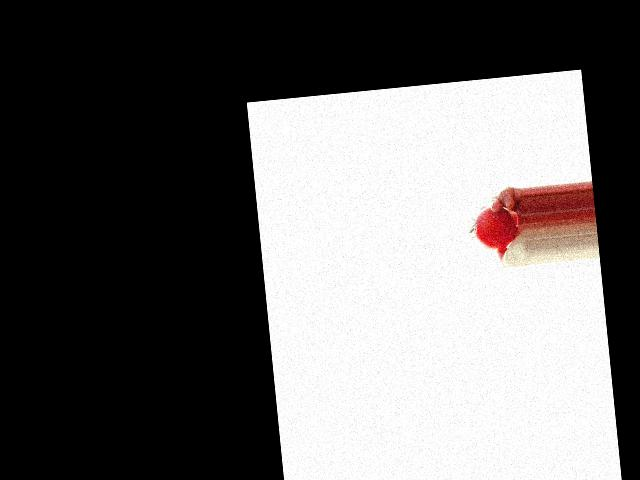tomato: (471, 203, 518, 251)
